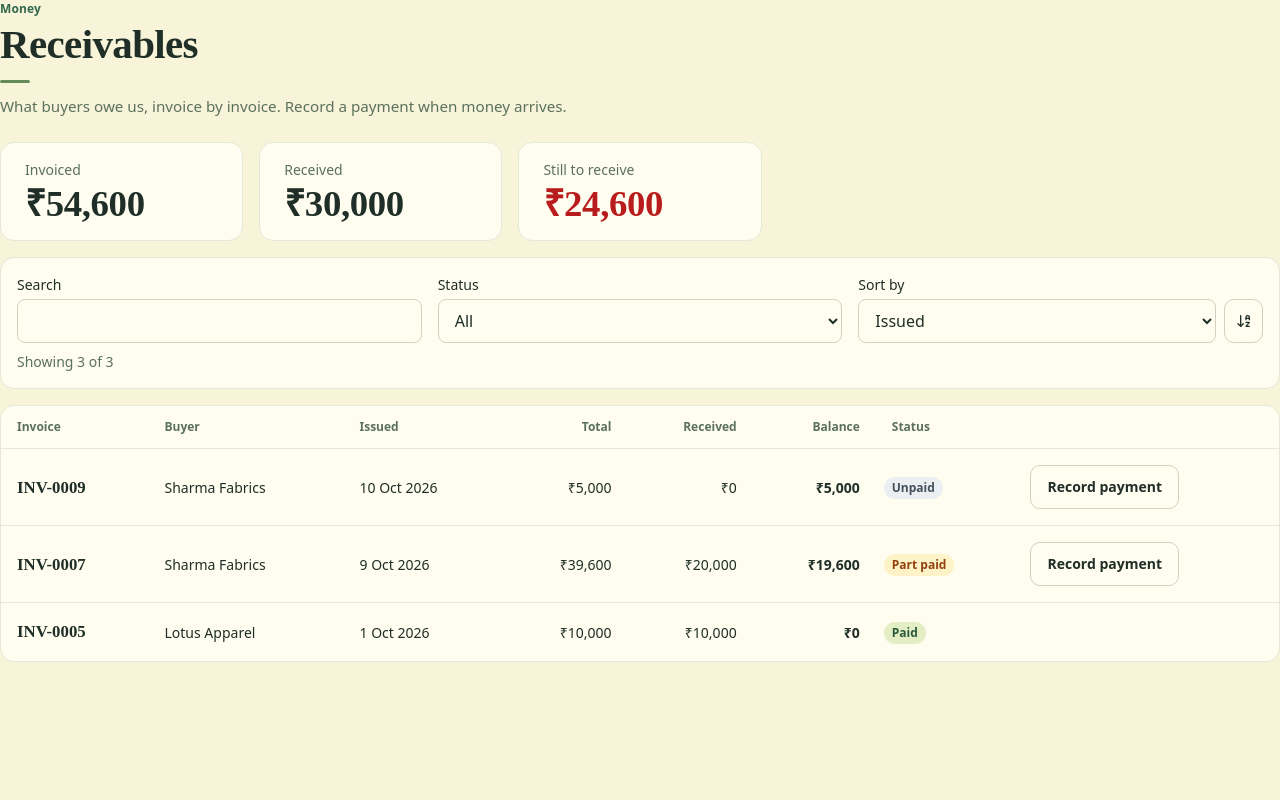
it: Receivables › refuses an amount above the balance, and sends nothing
The width and height of the screenshot is (1280, 800).
Click the button named "record payment for INV-0007".
click(1105, 564)  # box [1030,542,1179,586]
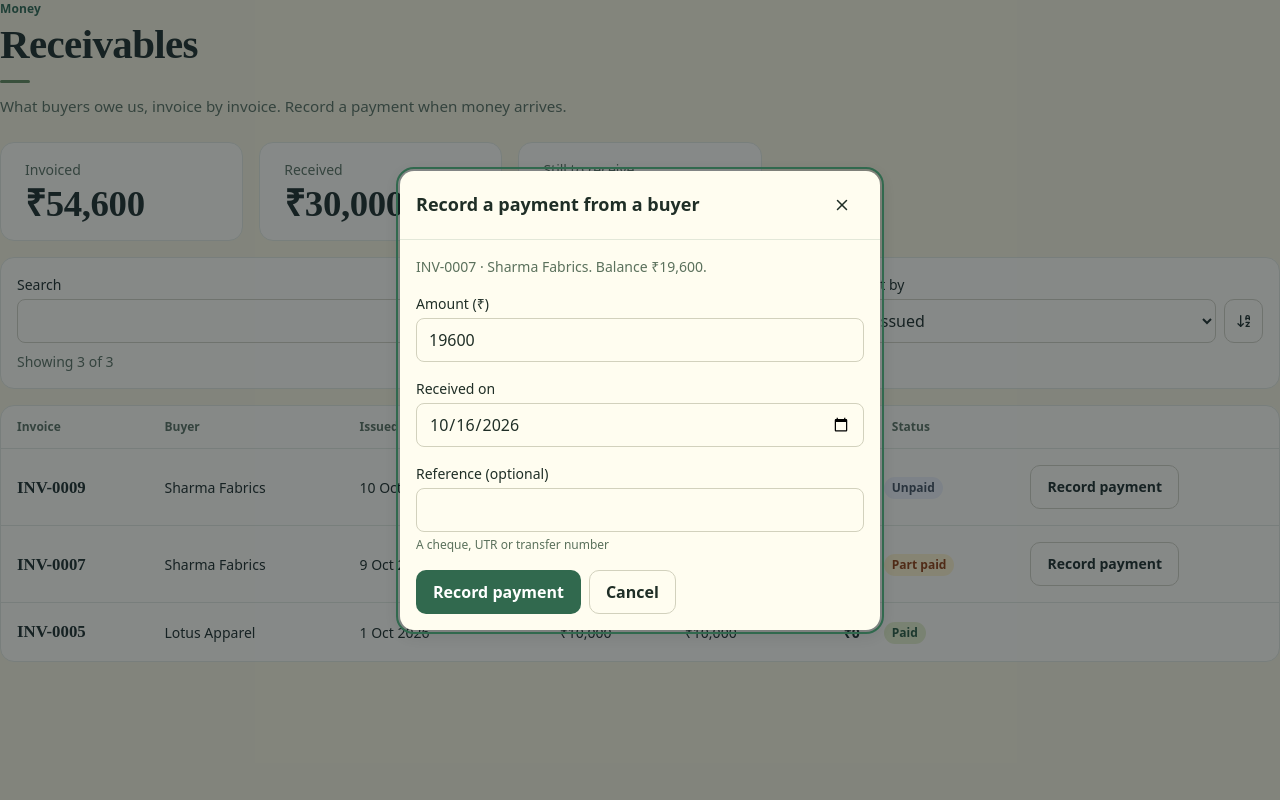
Replace the text in the field labelled "Amount (₹)" with "25000" at (640, 340), box [416,318,864,362]
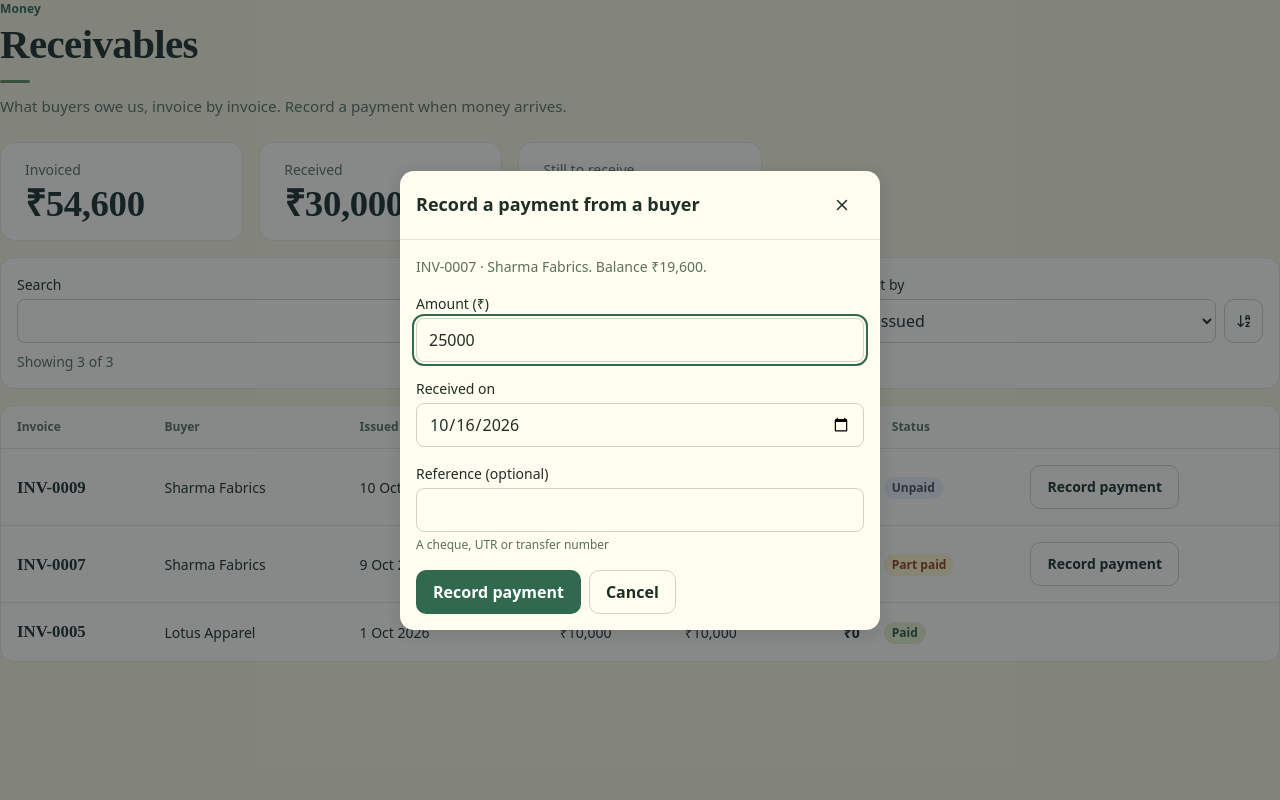
Click the button "Record payment".
click(498, 592)  # box [416,570,581,614]
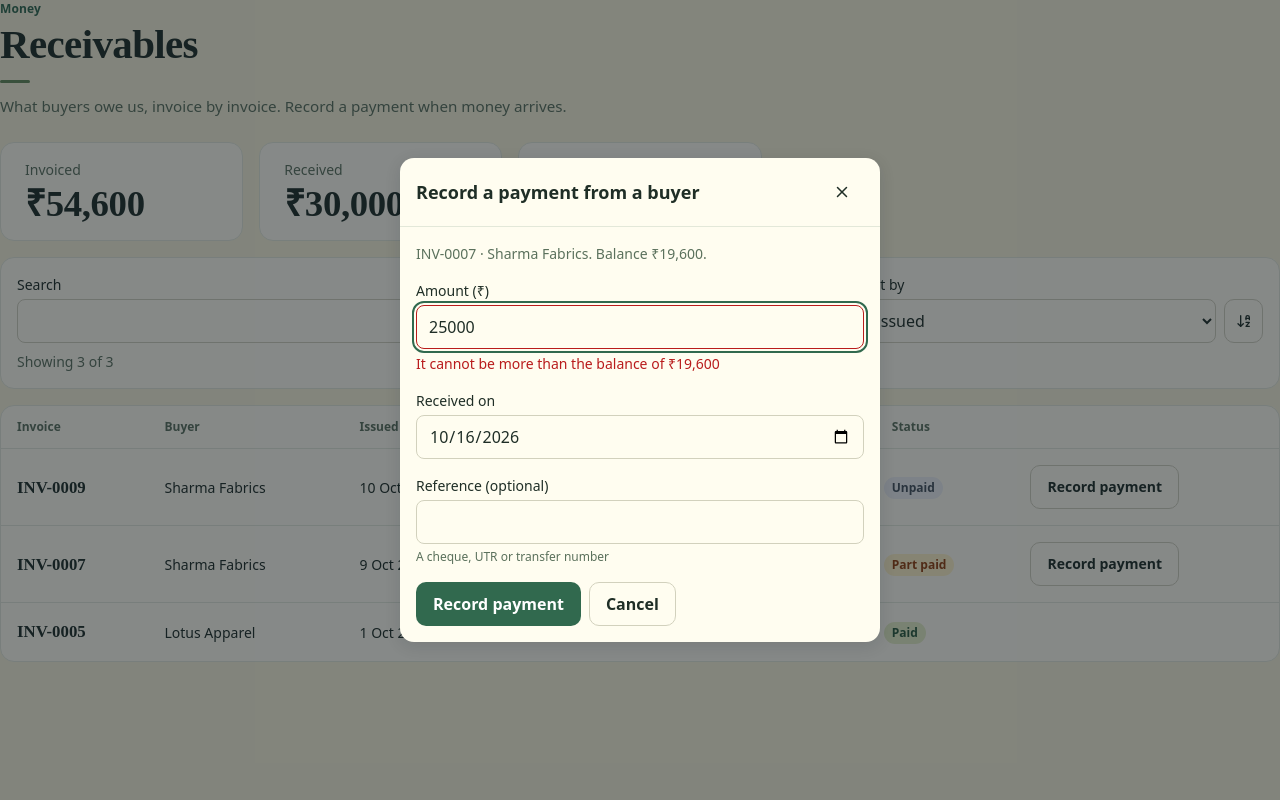
Expected: the text "It cannot be more than the balance of ₹19,600" is shown, [416,354,720,373]
